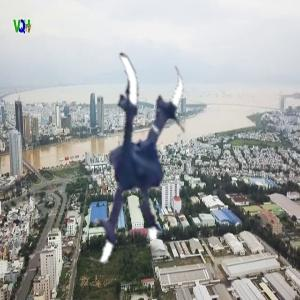drone: (15, 53, 223, 261)
